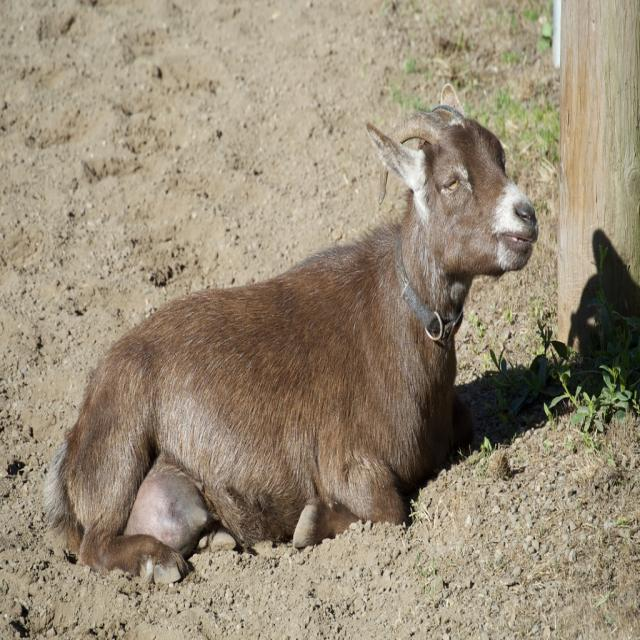Goat: (39, 84, 539, 587)
